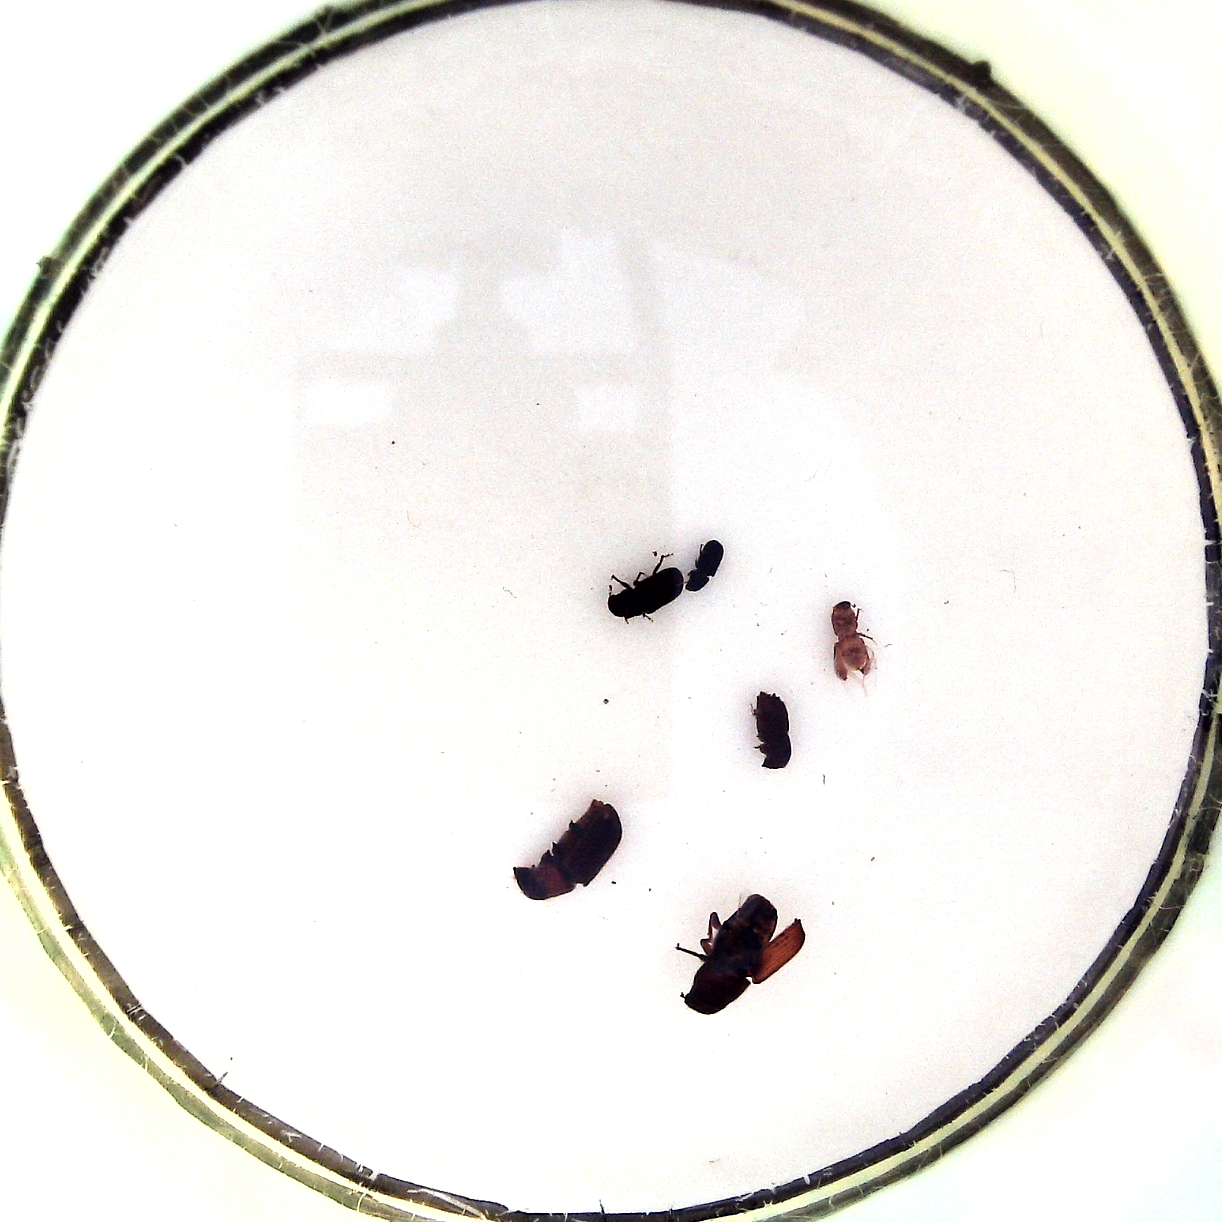Leconte: (675, 891, 806, 1016), (511, 796, 624, 904)
Linnaeus: (750, 684, 793, 775)
acuminatus: (826, 599, 882, 684)
armandi: (608, 553, 683, 627)
coleoptera: (685, 534, 726, 598)
